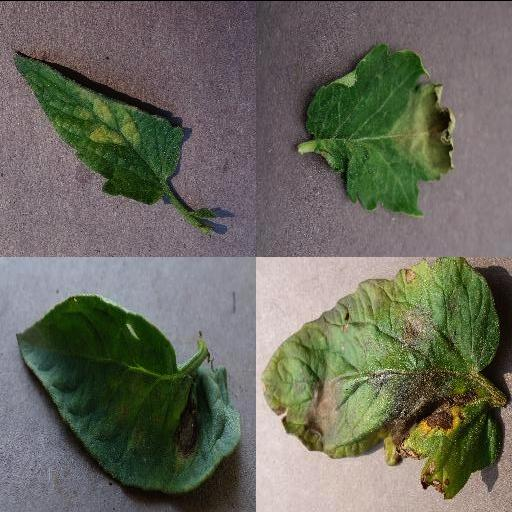Early Blight: (15, 296, 241, 494)
Late Blight: (261, 256, 500, 499), (306, 41, 456, 213)
Leaf Mold: (11, 50, 185, 202)
